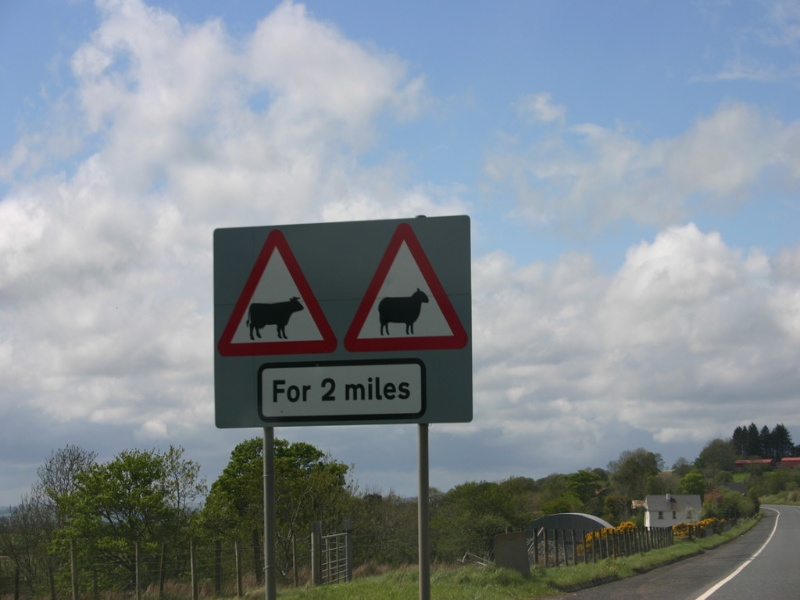animal_ahead: (342, 218, 468, 353), (212, 227, 342, 354)
